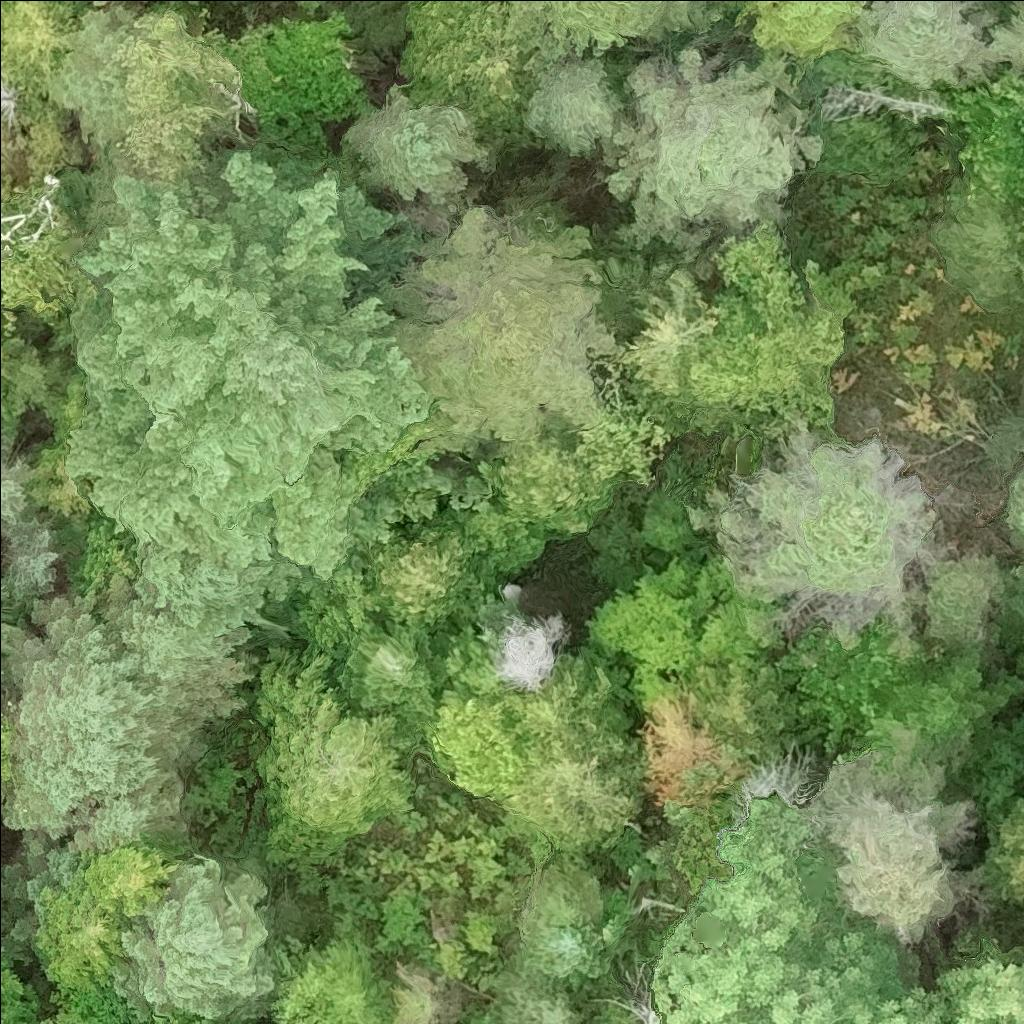crown: (66, 143, 439, 629), (350, 201, 625, 456), (652, 799, 910, 1023), (597, 45, 827, 264), (794, 725, 990, 956), (688, 429, 935, 600), (671, 221, 856, 441), (0, 644, 206, 839), (255, 645, 420, 845), (112, 848, 277, 1023), (94, 584, 262, 734), (114, 14, 239, 198), (396, 0, 571, 130), (773, 626, 945, 753), (449, 637, 632, 756), (489, 731, 643, 855), (343, 85, 494, 206), (610, 254, 721, 395), (356, 506, 480, 630), (47, 0, 148, 151), (329, 606, 455, 725), (845, 0, 1002, 91), (416, 677, 532, 799), (511, 861, 611, 991), (836, 955, 1023, 1023), (515, 51, 632, 159), (929, 179, 1023, 313), (2, 588, 124, 691), (509, 0, 721, 59), (889, 646, 1023, 739), (0, 225, 91, 344), (77, 833, 189, 929), (32, 883, 127, 996), (921, 549, 1005, 656), (736, 0, 863, 66), (0, 0, 85, 98), (66, 791, 190, 854), (477, 958, 590, 1023), (0, 507, 61, 607), (493, 610, 568, 691), (740, 736, 816, 808), (592, 969, 659, 1023), (0, 433, 31, 537), (0, 940, 33, 1023), (988, 0, 1023, 77), (0, 584, 22, 682), (1002, 468, 1023, 540), (123, 1010, 208, 1023), (224, 1017, 255, 1023), (1019, 928, 1023, 954), (1019, 218, 1023, 242), (1020, 265, 1023, 283), (1020, 304, 1023, 309), (0, 549, 1, 557), (1022, 908, 1023, 915), (471, 1023, 473, 1023)
